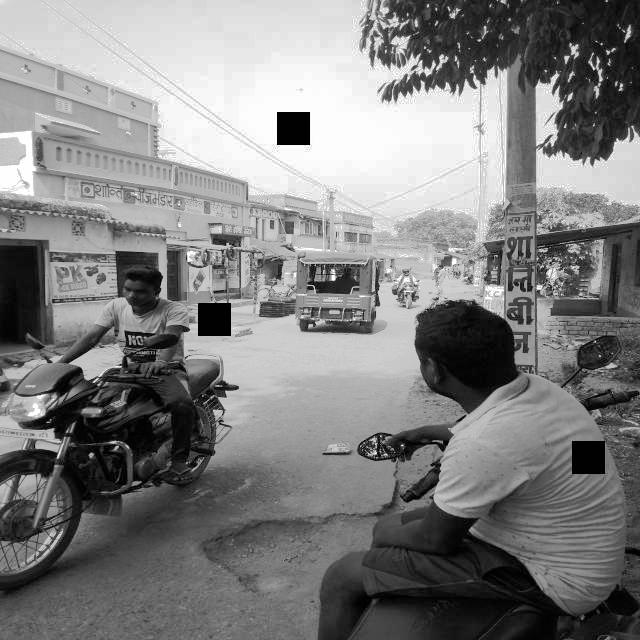Auto-Rickshaw: (287, 249, 383, 339)
Bike: (5, 253, 232, 597)
